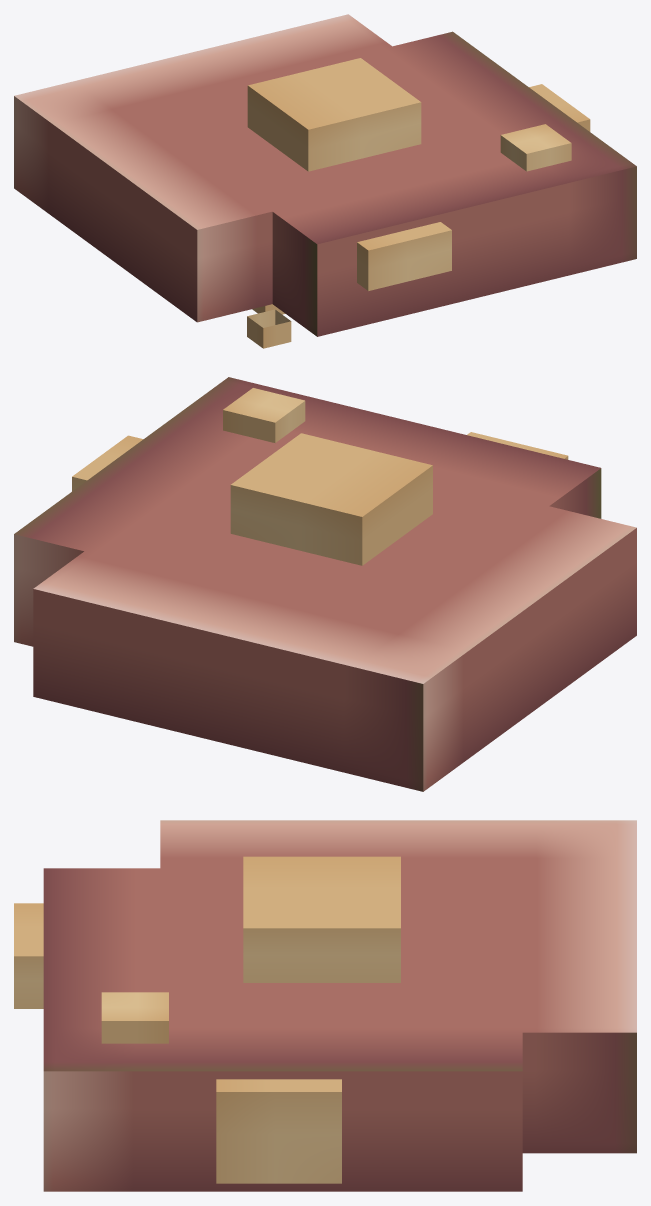
Rendered from Block_Destroy_Step5.fbx.
3 renders of one model, top to bottom at view 1: azimuth 30°, elevation 25°; view 2: azimuth 150°, elevation 25°; view 3: azimuth 270°, elevation 25°, orthographic. The views are drawn at different scales.
Visible parts, largest first — view 1: Block_Destroy_Step5; view 2: Block_Destroy_Step5; view 3: Block_Destroy_Step5.
Boxes of the visible parts, left/top/right/bottom form: Block_Destroy_Step5: left=14, top=14, right=636, bottom=348; Block_Destroy_Step5: left=14, top=377, right=636, bottom=791; Block_Destroy_Step5: left=14, top=820, right=636, bottom=1191.
Bounding box in the file's own units: 26.25 × 10.15 × 26.25.
Materials: 1 (1 with a texture image).
